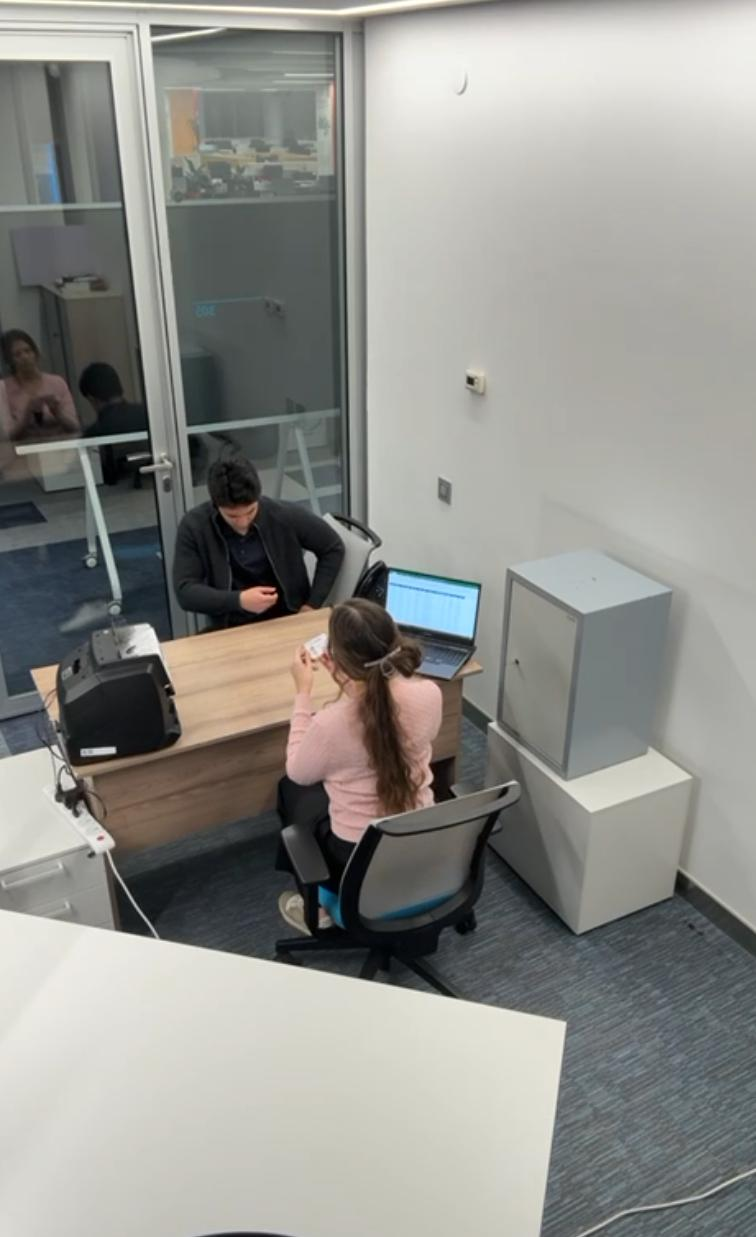counter: (53, 621, 185, 768)
document: (303, 636, 330, 658)
key_in: (504, 658, 527, 682)
screen_on: (383, 567, 482, 648)
